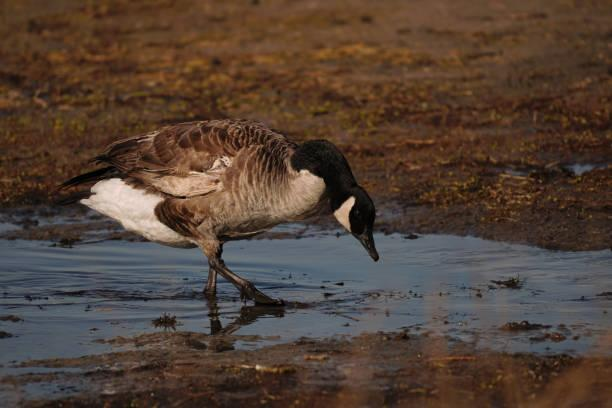Canadian-Goose: (56, 115, 389, 305)
